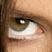eye: (10, 18, 30, 32)
